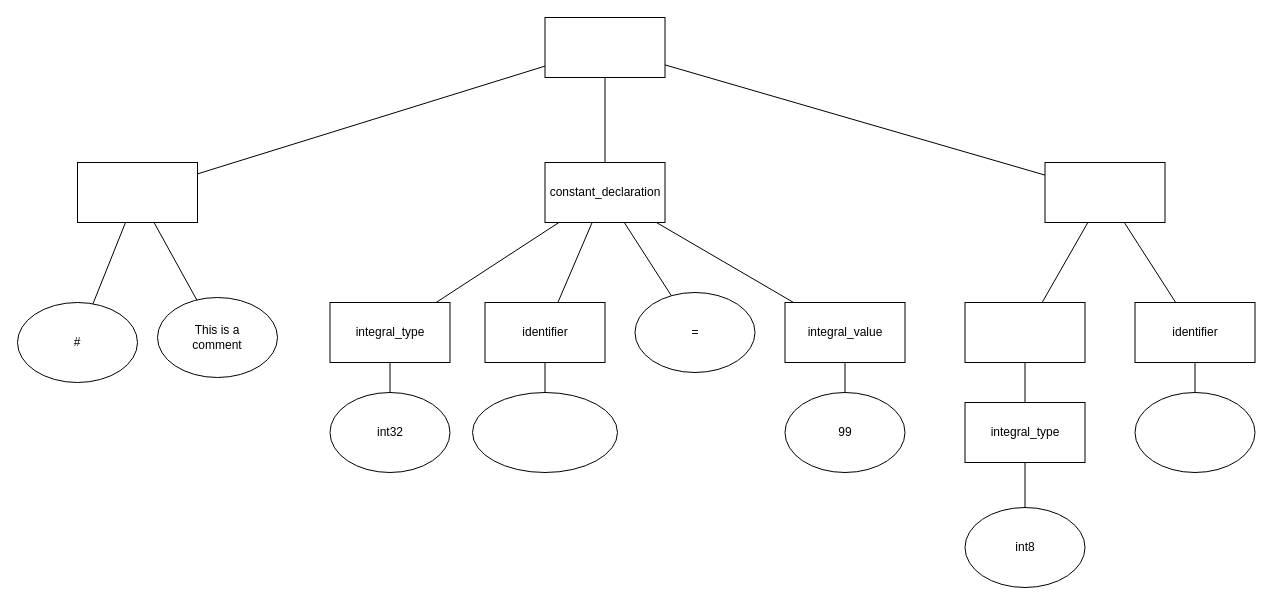
This 1273x605 diagram has some shape labels left out. Here are the shapes that lost their labels. From the top down, the box of each, then its label:
(544, 16, 665, 78): ros_message
(76, 162, 198, 222): comment
(1044, 162, 1165, 222): field_declaration
(964, 302, 1085, 362): type
(472, 392, 618, 472): CONST_DECLARATION
(1134, 392, 1255, 472): myIntValue
